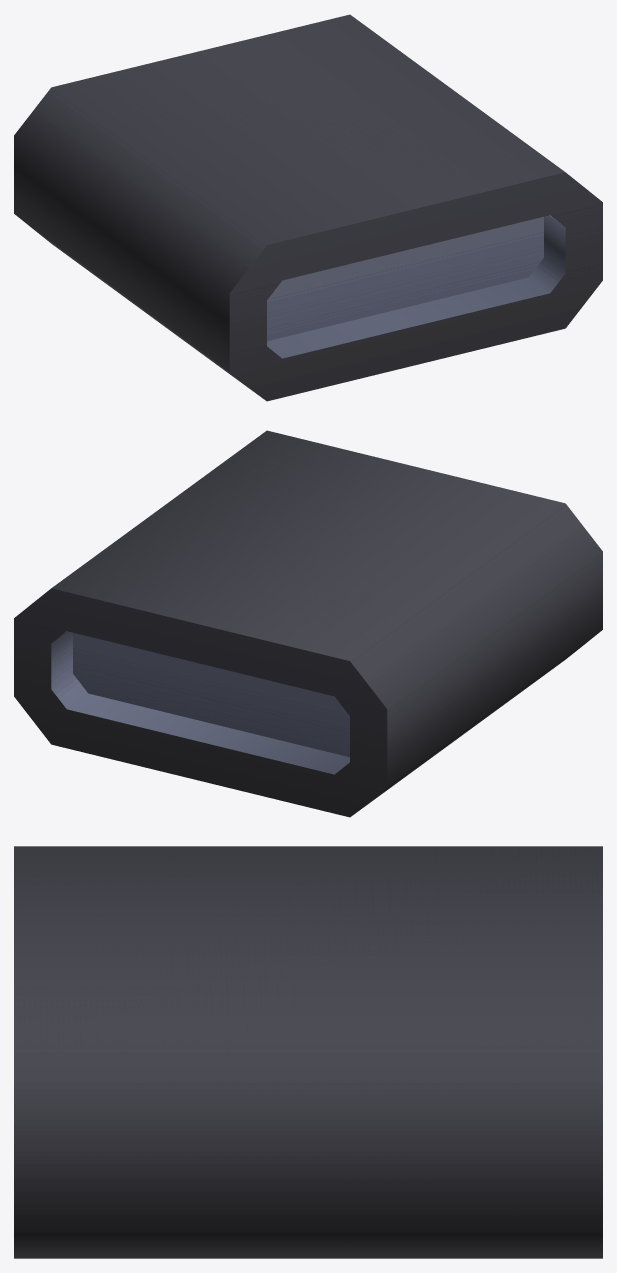
File: conveyor.glb
3 views of the same model, one above another, from view 1: azimuth 30°, elevation 25°; view 2: azimuth 150°, elevation 25°; view 3: azimuth 270°, elevation 25° (orthographic). The views are drawn at different scales.
Parts seen in each view (by area): view 1: conveyor; view 2: conveyor; view 3: conveyor.
Boxes of the visible parts, x1,y1,x2,y2 form: conveyor: (14, 14, 602, 401); conveyor: (14, 430, 602, 817); conveyor: (14, 846, 602, 1258).
Size of the model in its own units: 1 by 0.4 by 1.
1 material, 1 textured.
